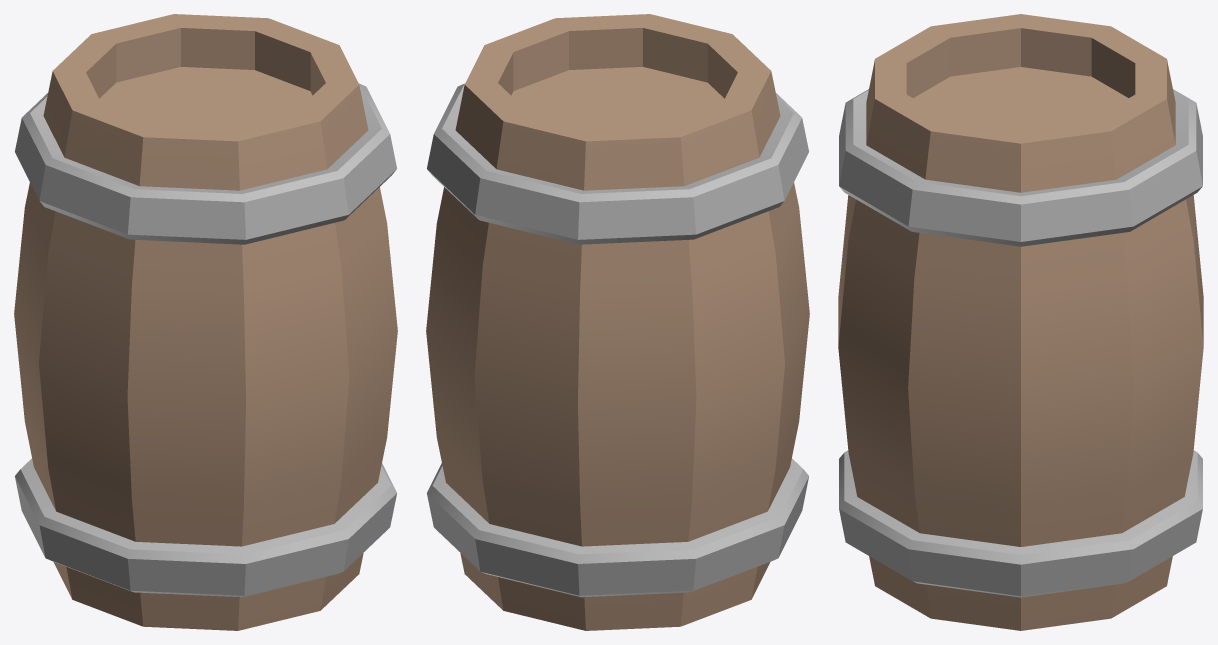
File: barril.fbx
The picture shows the model from 3 angles, left to right: view 1: azimuth 30°, elevation 25°; view 2: azimuth 150°, elevation 25°; view 3: azimuth 270°, elevation 25°; orthographic projection.
Parts seen in each view (by area): view 1: madera, metal; view 2: madera, metal; view 3: madera, metal.
Boxes of the visible parts, bbox=[...] form: madera: bbox=[14, 14, 397, 630]; metal: bbox=[15, 83, 396, 597]; madera: bbox=[426, 14, 809, 630]; metal: bbox=[427, 83, 808, 597]; madera: bbox=[838, 14, 1203, 630]; metal: bbox=[839, 89, 1202, 597].
Bounding box in the file's own units: 0.6203 × 0.8682 × 0.59.
